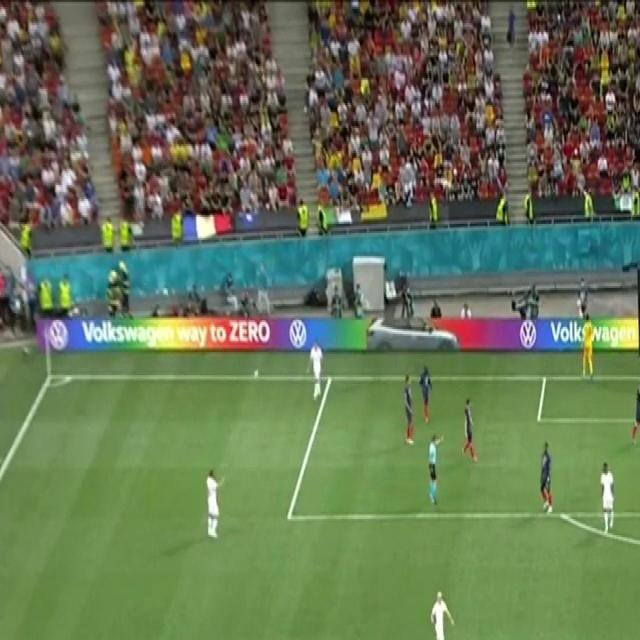player-white: (204, 463, 230, 545), (423, 427, 447, 507), (400, 367, 420, 451), (597, 457, 617, 541), (302, 340, 326, 406), (427, 586, 456, 640), (460, 393, 480, 471), (415, 354, 436, 428), (538, 438, 556, 520), (580, 310, 598, 384), (628, 375, 640, 450)
